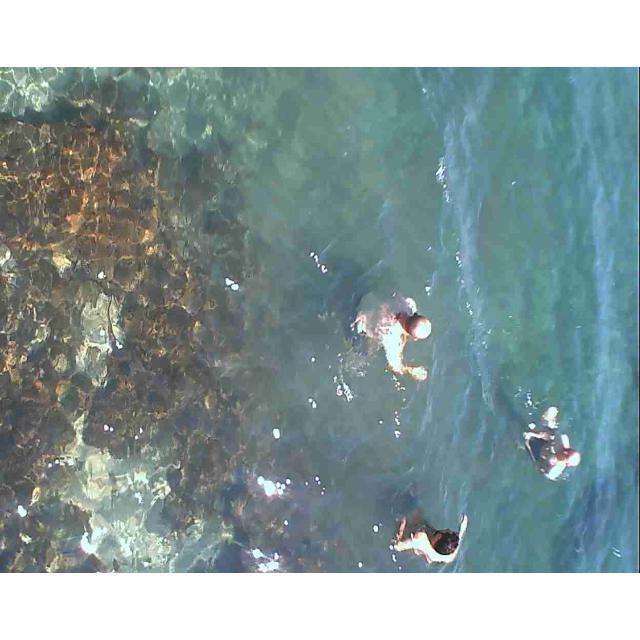human: (364, 290, 446, 377), (528, 400, 587, 482)
